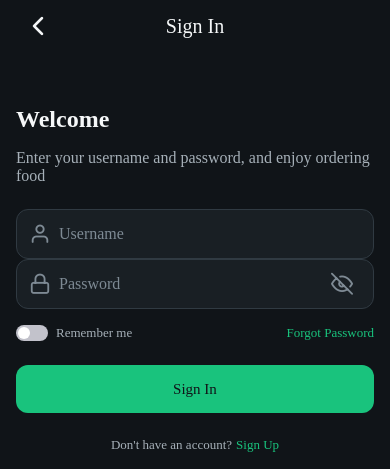
it: SigninScreen › toggles the password visibility affordance
Click the button named "Show password" at (342, 284), box [331,272,353,296]
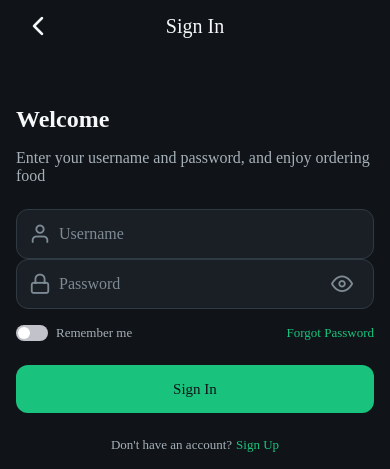
Expected: the button named "Hide password" is shown, [331,272,353,296]
